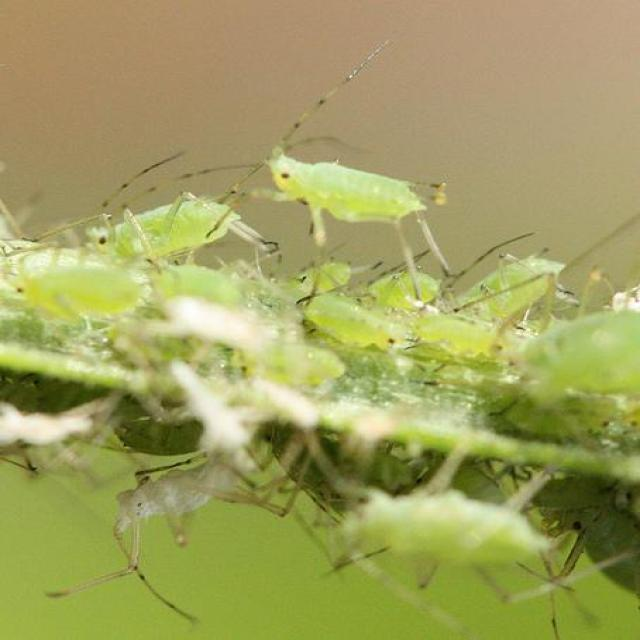aphid: (218, 96, 482, 310), (49, 158, 280, 296), (334, 487, 562, 597), (428, 245, 572, 338), (282, 284, 422, 378)
